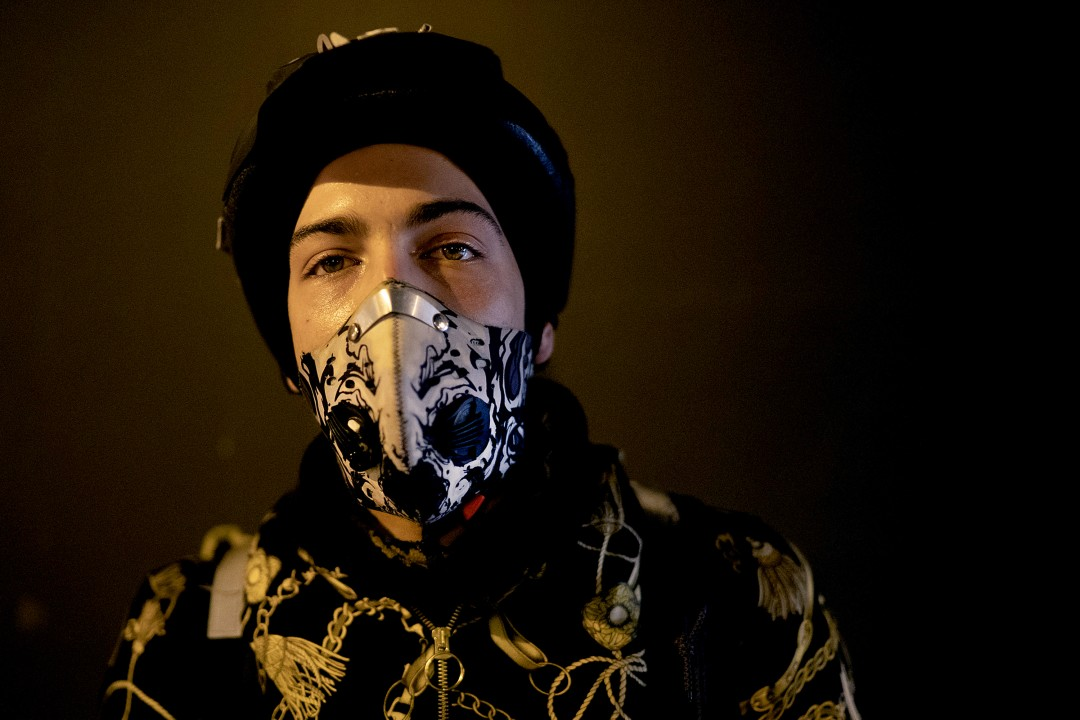with_mask: (245, 134, 573, 498)
